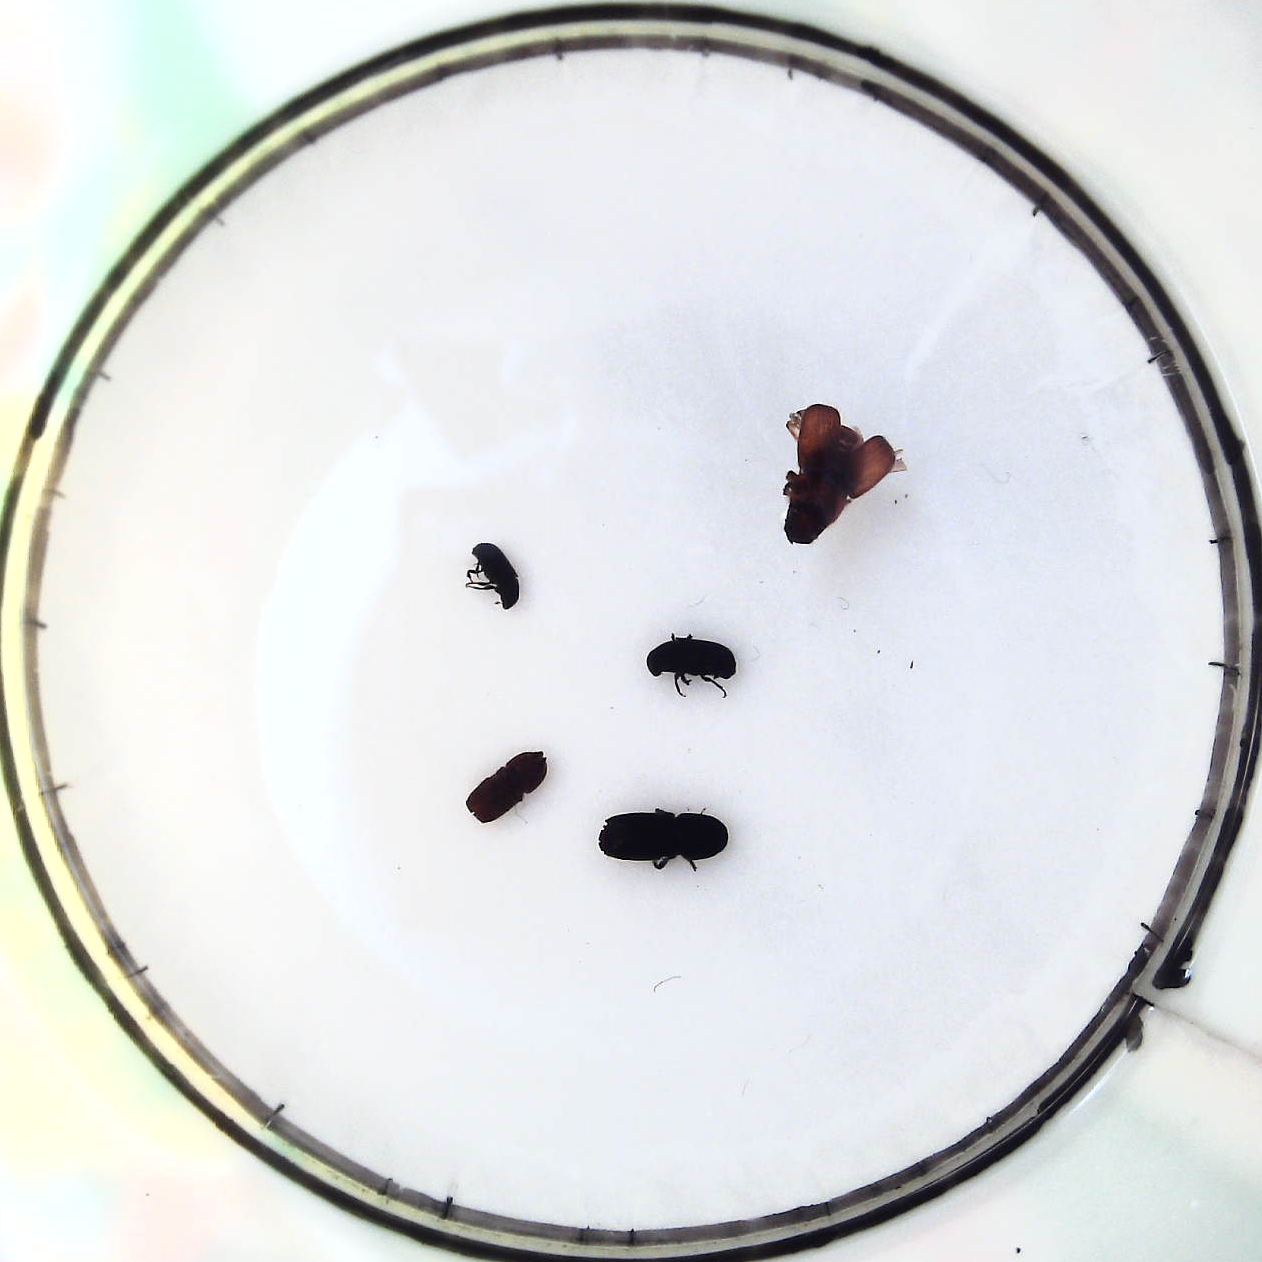Boerner: (604, 809, 728, 870)
Leconte: (784, 402, 896, 554)
Linnaeus: (472, 741, 543, 827)
armandi: (649, 633, 738, 695)
coleoptera: (462, 533, 521, 614)
